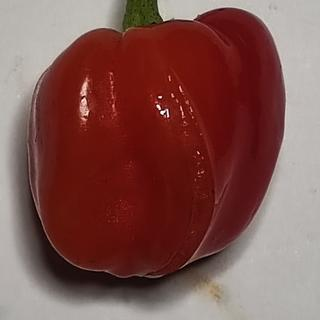Grade-B: (19, 2, 293, 283)
